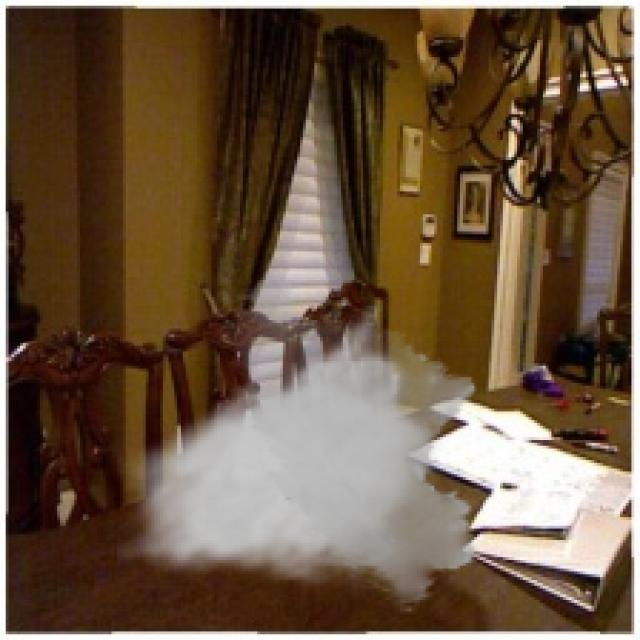smoke: (117, 269, 486, 614)
